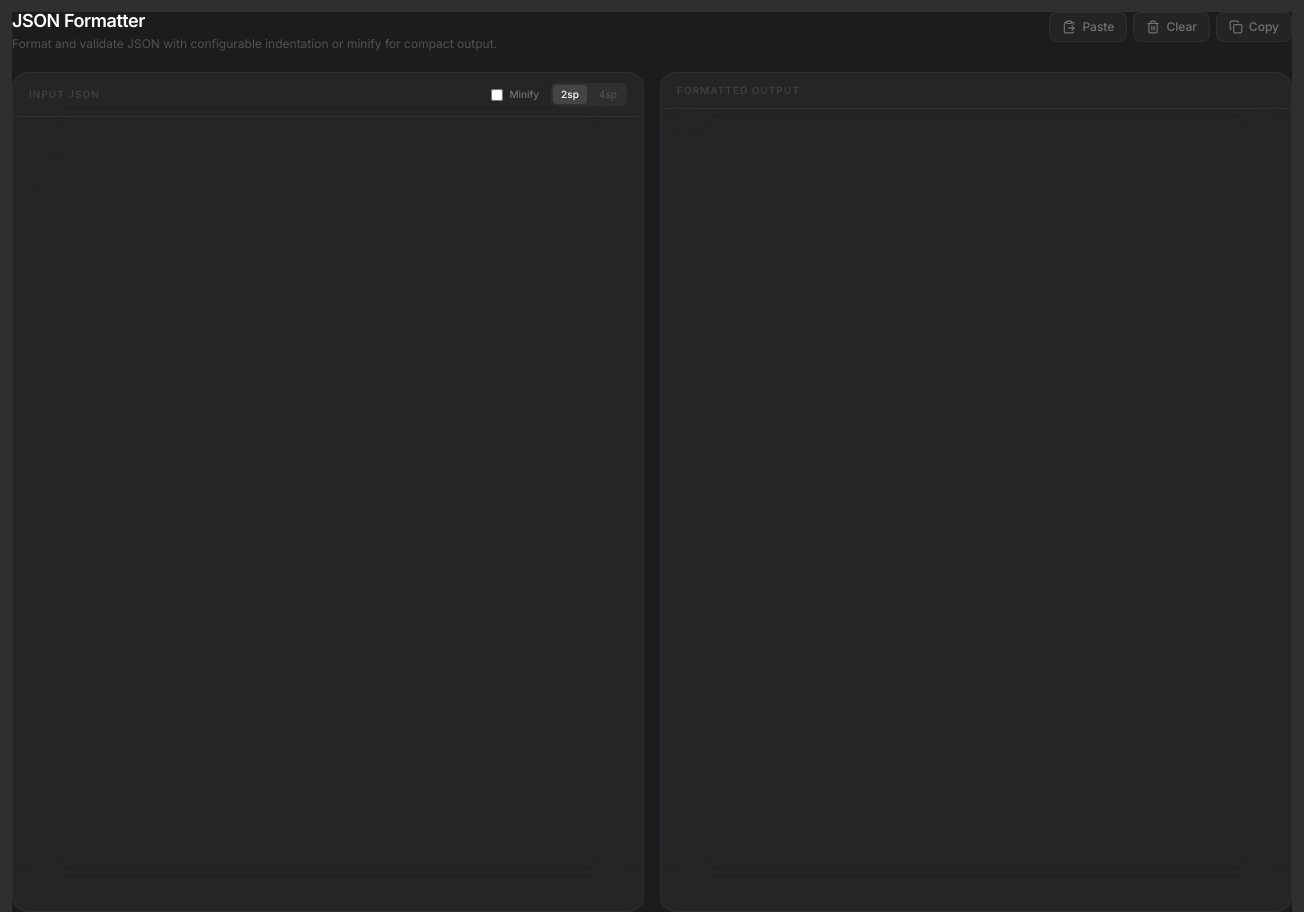
JsonFormatter › pastes text when Paste button is clicked
This screenshot has width=1304, height=912.
Click the button titled "Paste from clipboard" at point(1088, 27), box [1049,12,1127,42]
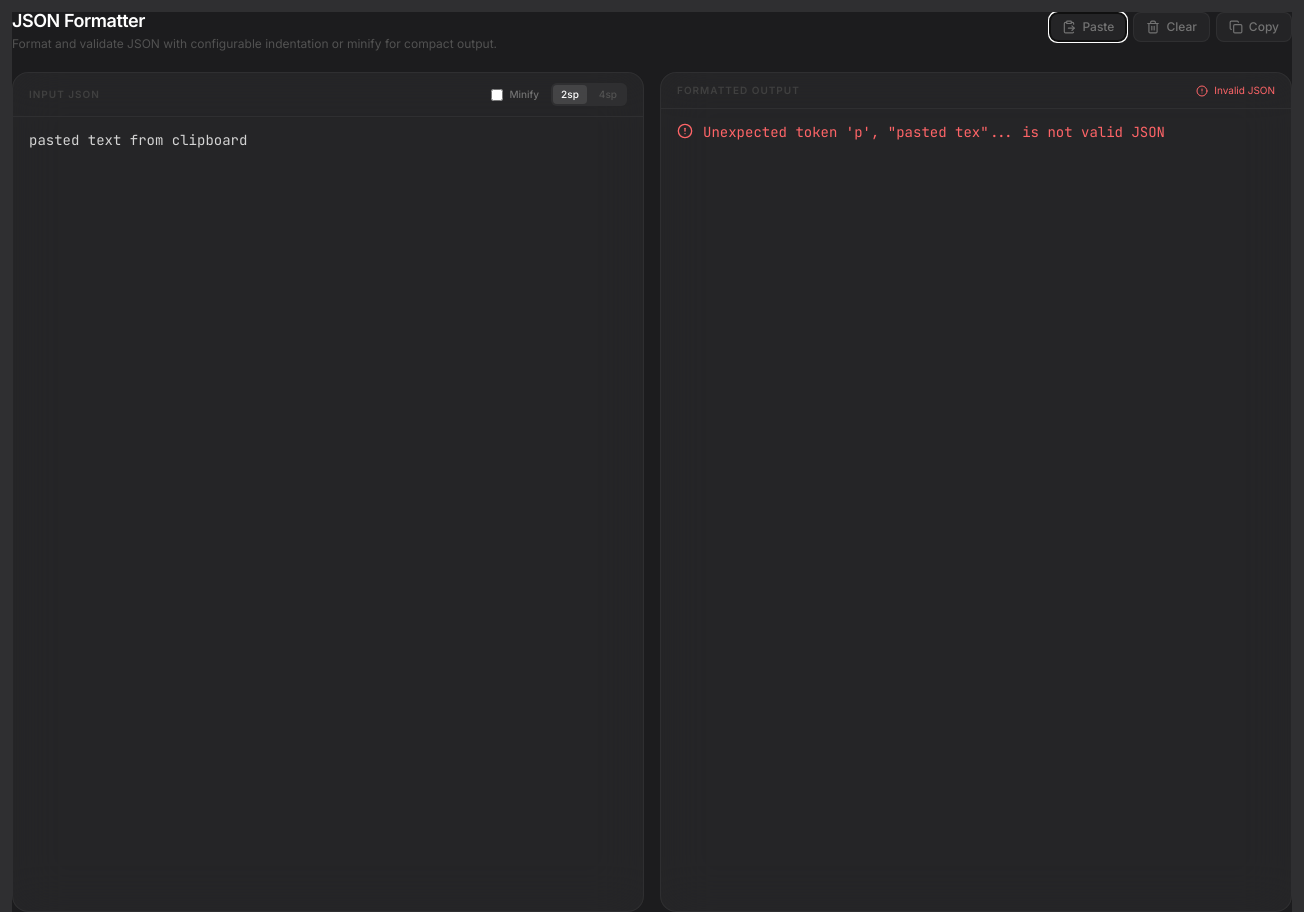
Result: the text box with placeholder "{ \"key\": \"value\" }" holds "pasted text from clipboard" at [13,117,643,911]
